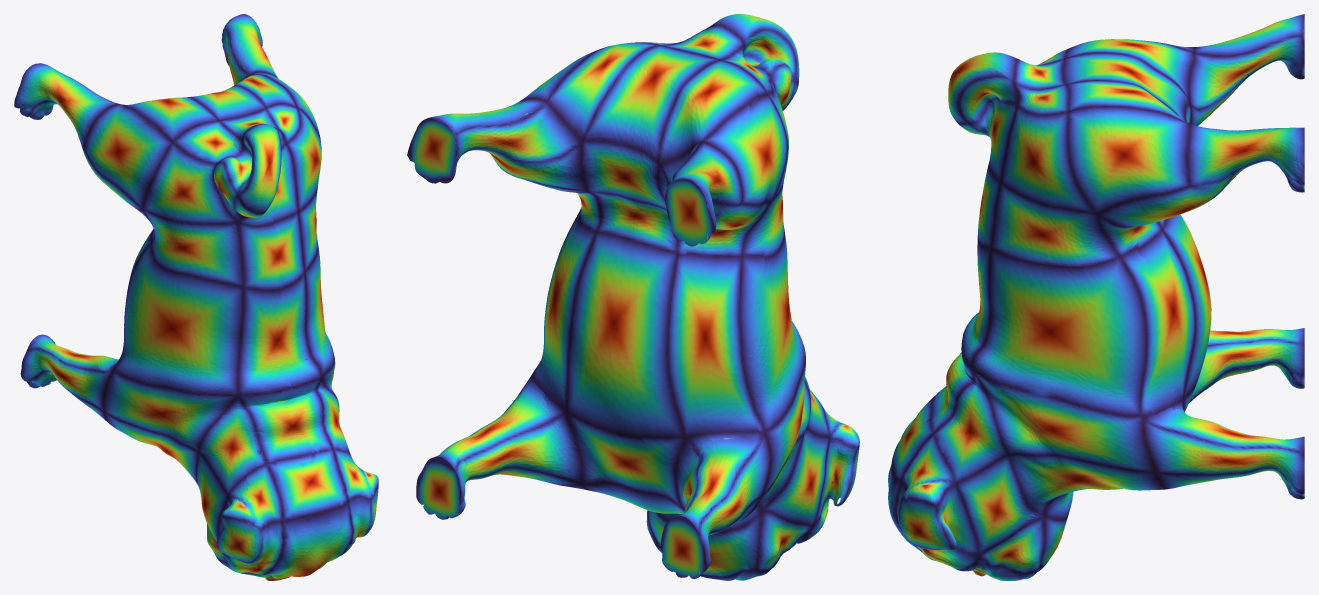
File: gen2.glb
The picture shows the model from 3 angles, left to right: view 1: azimuth 30°, elevation 25°; view 2: azimuth 150°, elevation 25°; view 3: azimuth 270°, elevation 25°; orthographic projection. The views are drawn at different scales.
Parts seen in each view (by area): view 1: Node; view 2: Node; view 3: Node.
Boxes of the visible parts, x1,y1,x2,y2 form: Node: (14, 14, 378, 580); Node: (407, 14, 859, 580); Node: (888, 14, 1304, 580).
Bounding box in the file's own units: 34.02 × 58.6 × 43.33.
Materials: 1 (1 with a texture image).
